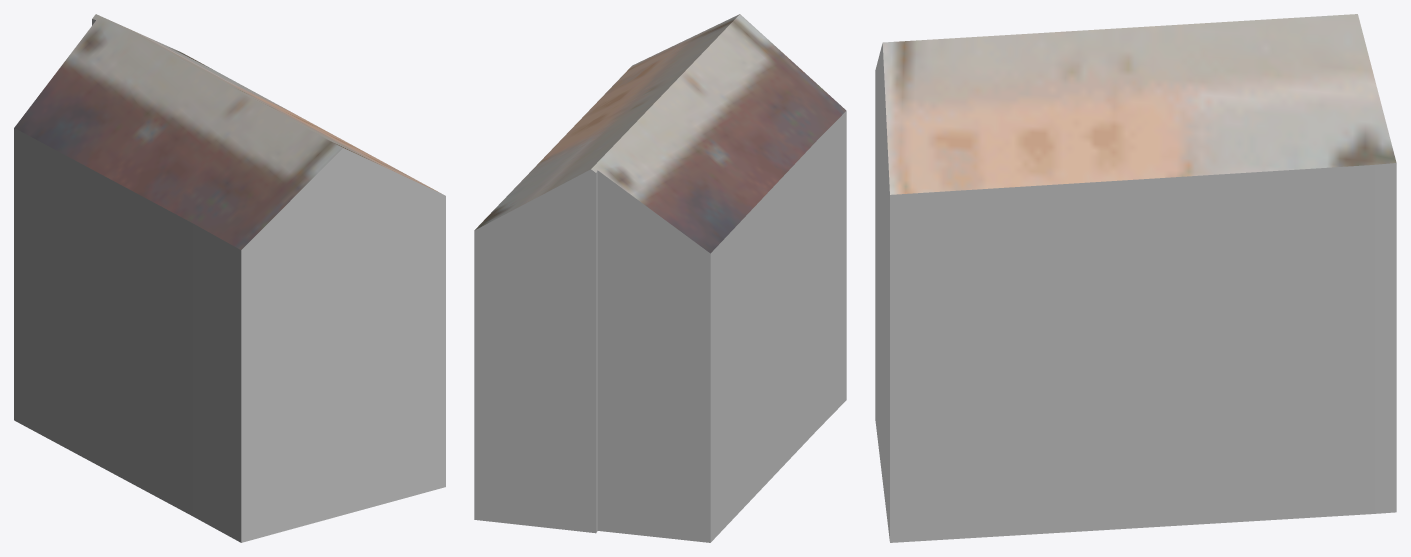
File: DEBW_0010007Tx6C.gltf
3 views of the same model, side by side, from view 1: azimuth 30°, elevation 25°; view 2: azimuth 150°, elevation 25°; view 3: azimuth 270°, elevation 25° (orthographic). The views are drawn at different scales.
Parts seen in each view (by area): view 1: Z_UP; view 2: Z_UP; view 3: Z_UP.
Boxes of the visible parts, box(x1,y1,x2,y2) form: Z_UP: box(14, 14, 445, 542); Z_UP: box(474, 14, 846, 542); Z_UP: box(875, 14, 1396, 542).
Bounding box in the file's own units: 11.35 × 15.6 × 16.78.
2 materials, 1 textured.
